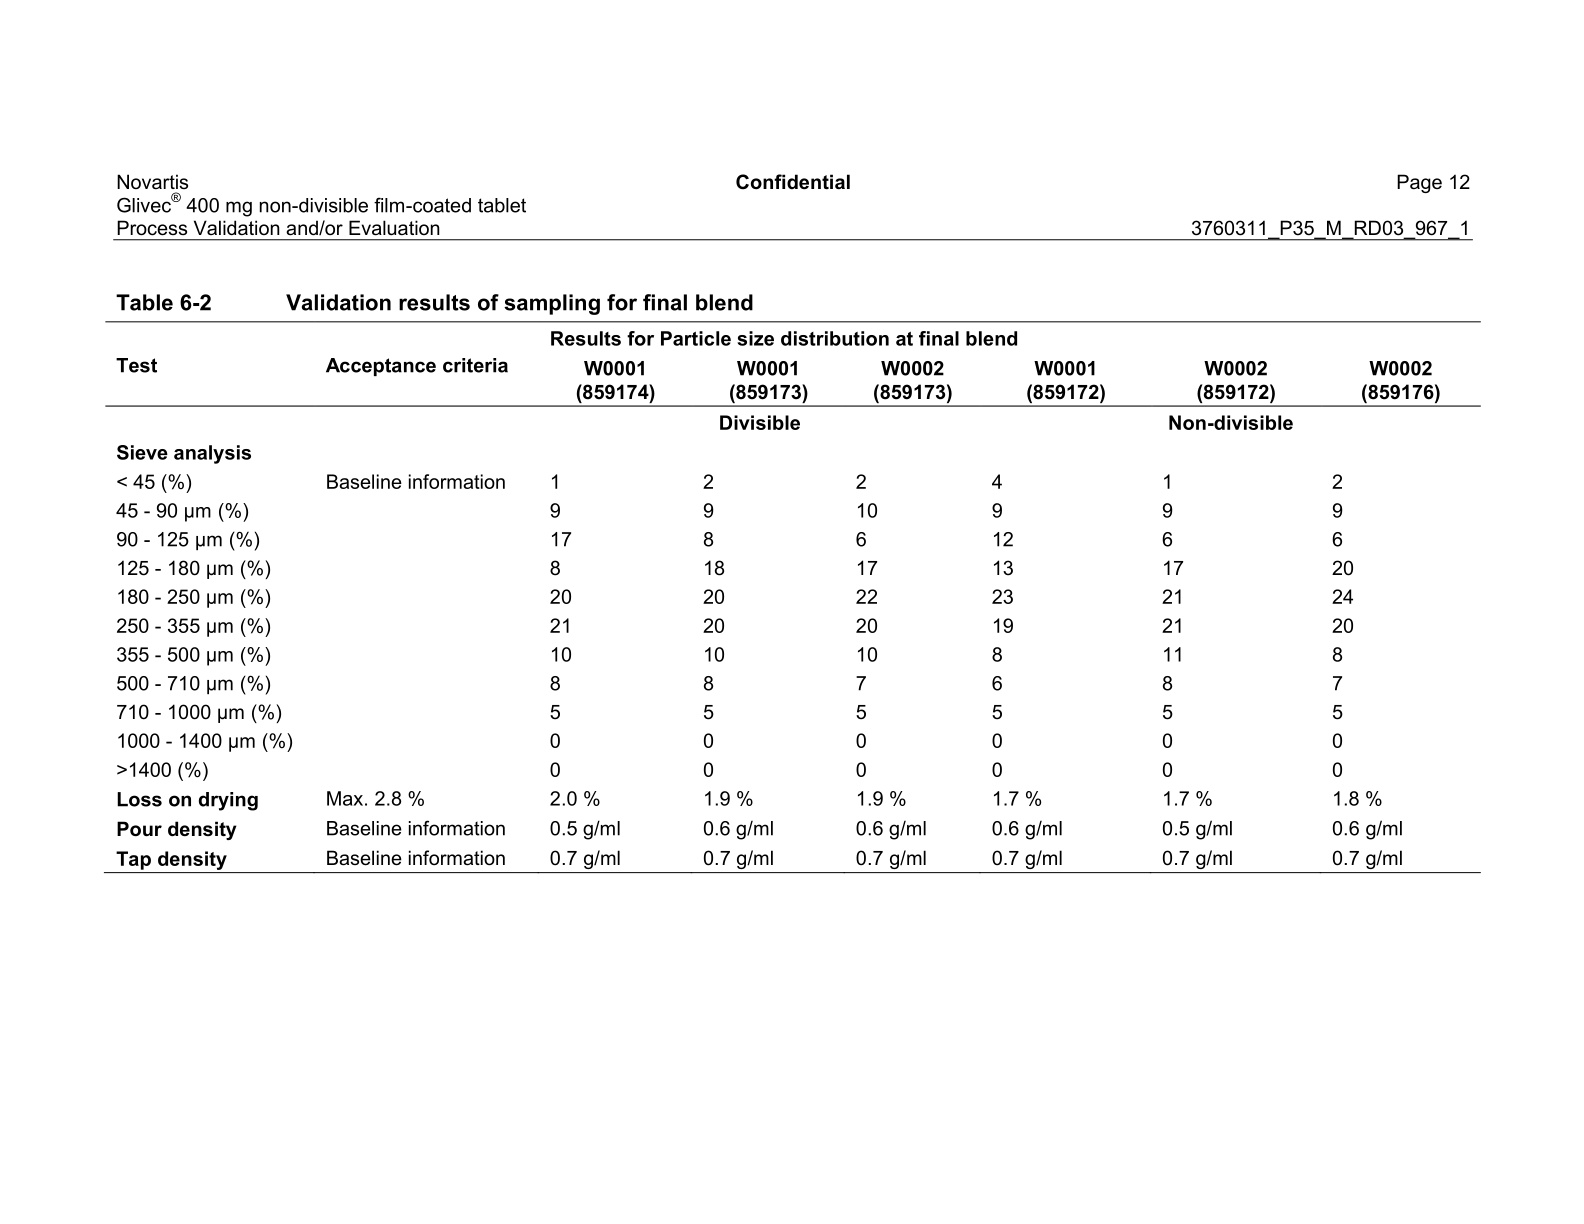partial_lined_merged_cells: (104, 320, 1482, 874)
